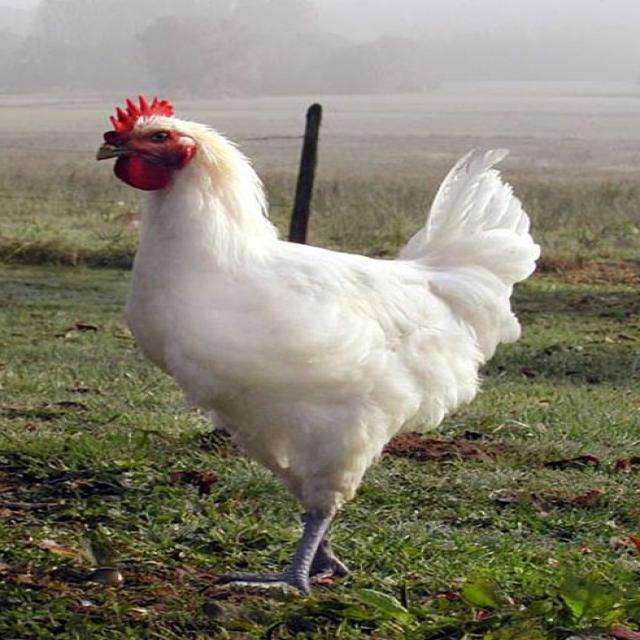Healthy: (52, 90, 586, 602), (374, 140, 574, 326), (78, 86, 240, 204)
